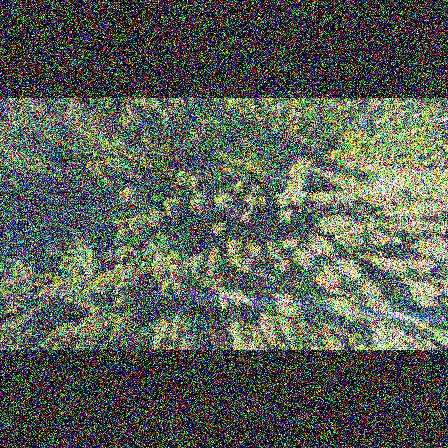Sick: (242, 261, 254, 274)
